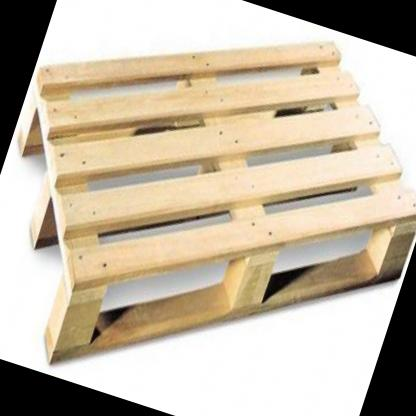BoxFace: (17, 38, 416, 368)
